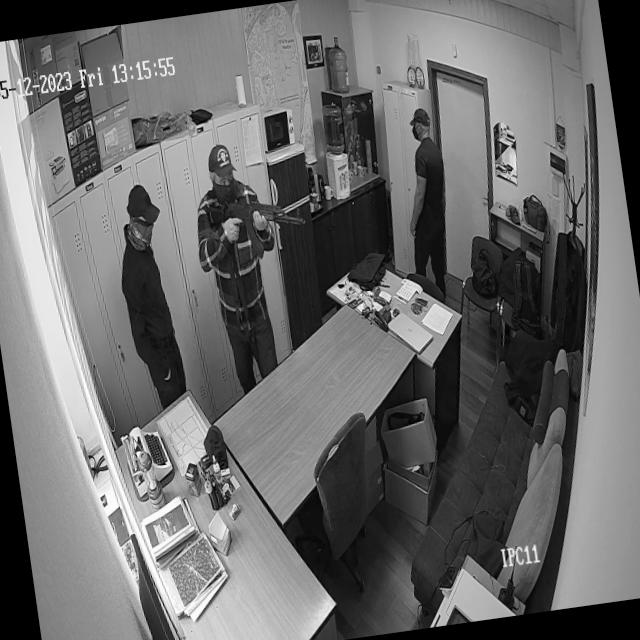gun: (202, 188, 310, 266)
person: (105, 178, 188, 392), (392, 101, 465, 286)
person with a gun: (182, 128, 320, 342)
